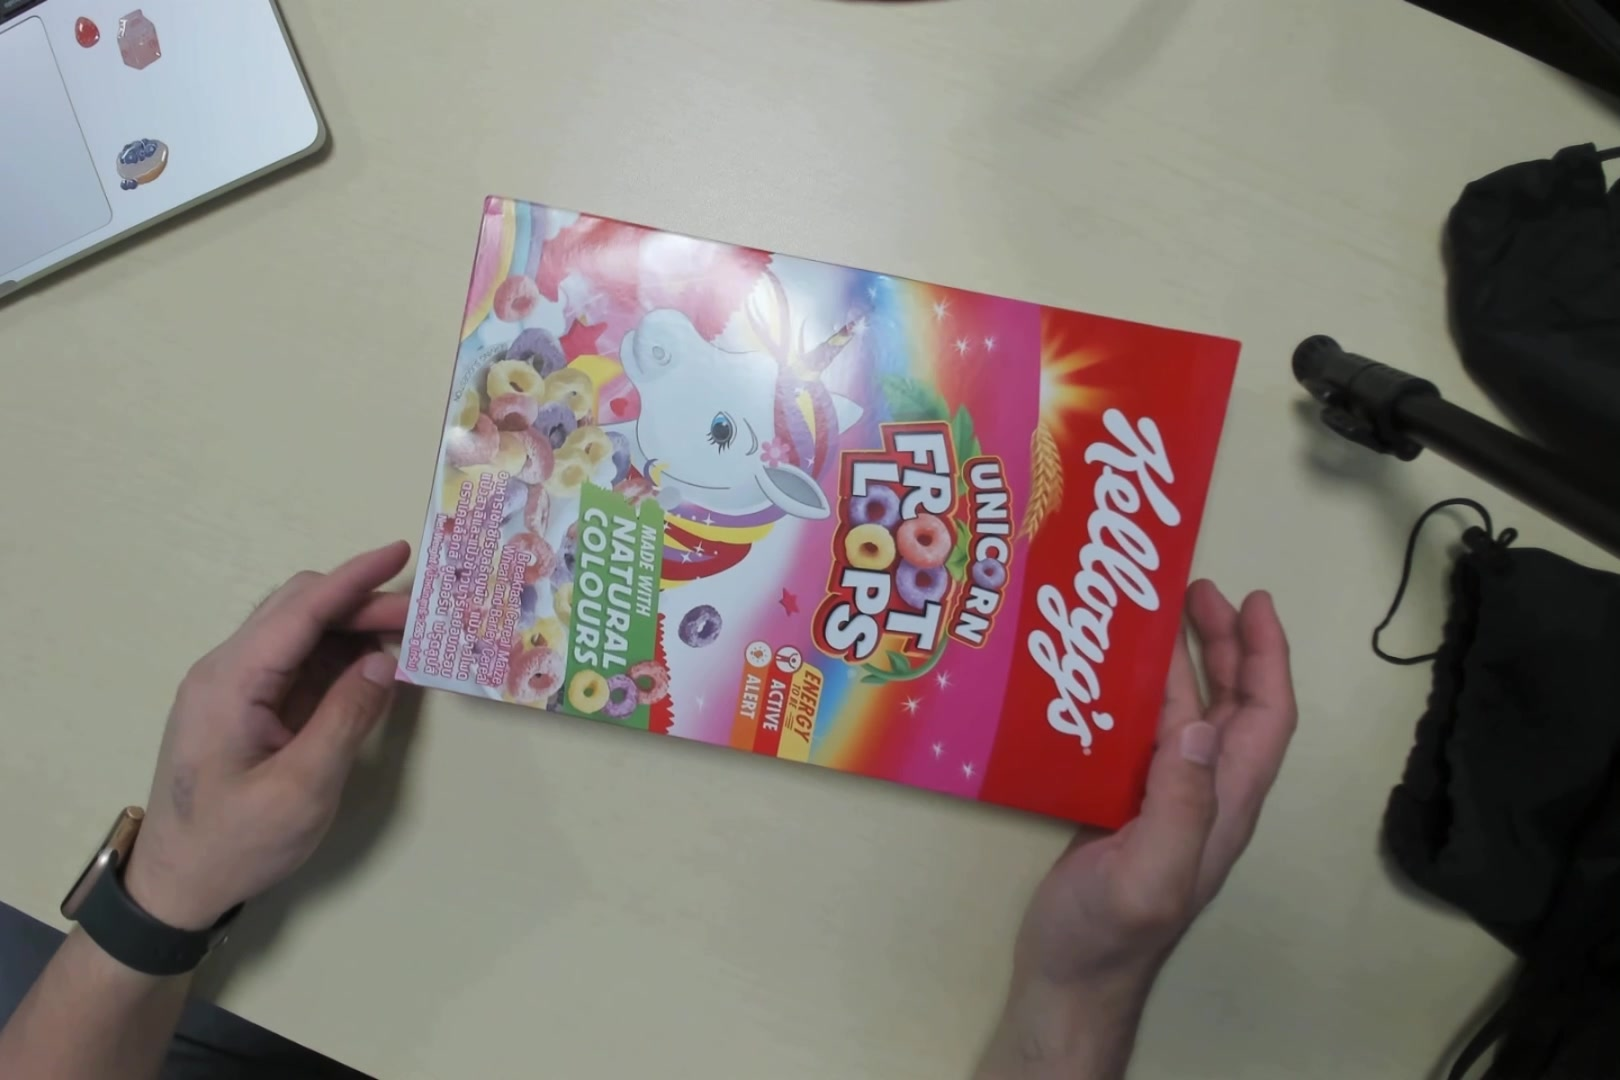BreakfastCereals_200-299g_Halal_NonHealthy: (389, 183, 1184, 786)
